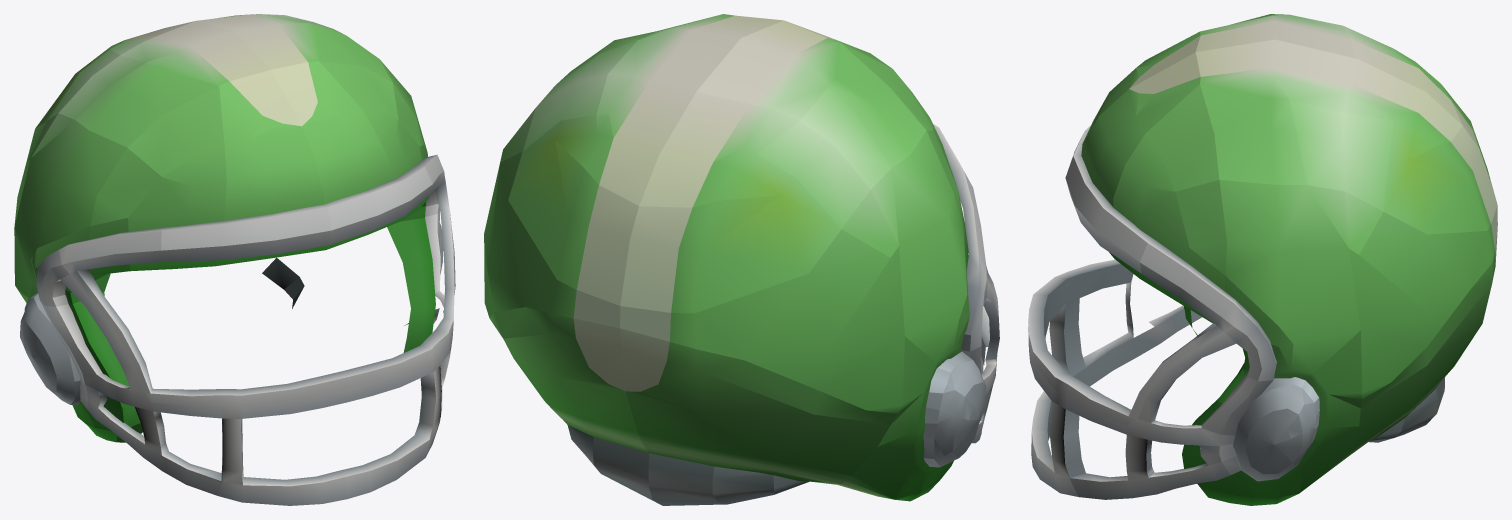
File: NFLHelmet_MESH.glb
3 views of the same model, side by side, from view 1: azimuth 30°, elevation 25°; view 2: azimuth 150°, elevation 25°; view 3: azimuth 270°, elevation 25° (orthographic). The views are drawn at different scales.
Visible parts, largest first — view 1: NFLHelmet; view 2: NFLHelmet; view 3: NFLHelmet.
Boxes of the visible parts, x1,y1,x2,y2 form: NFLHelmet: (14, 14, 455, 505); NFLHelmet: (484, 14, 999, 505); NFLHelmet: (1028, 14, 1497, 505).
Bounding box in the file's own units: 0.6693 × 0.5987 × 0.6134.
